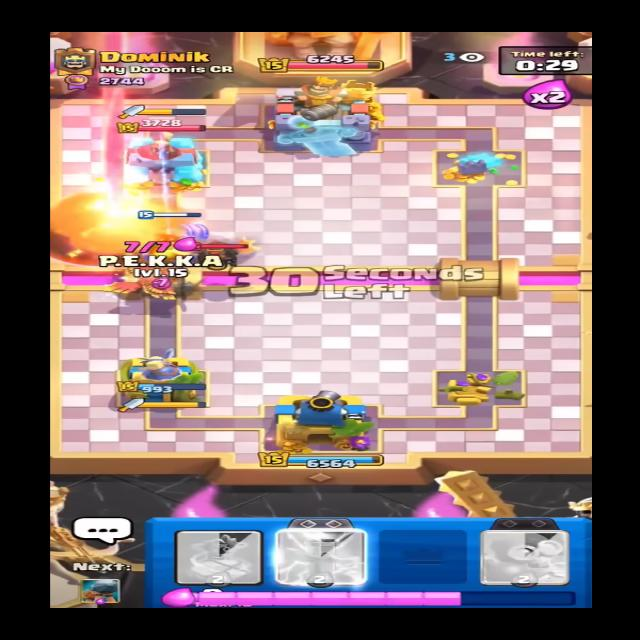Lavahound: (179, 234, 255, 276)
